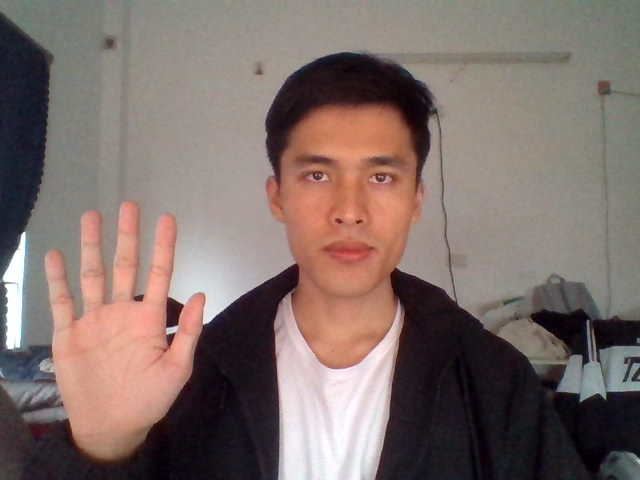Hello: (41, 197, 207, 434)
